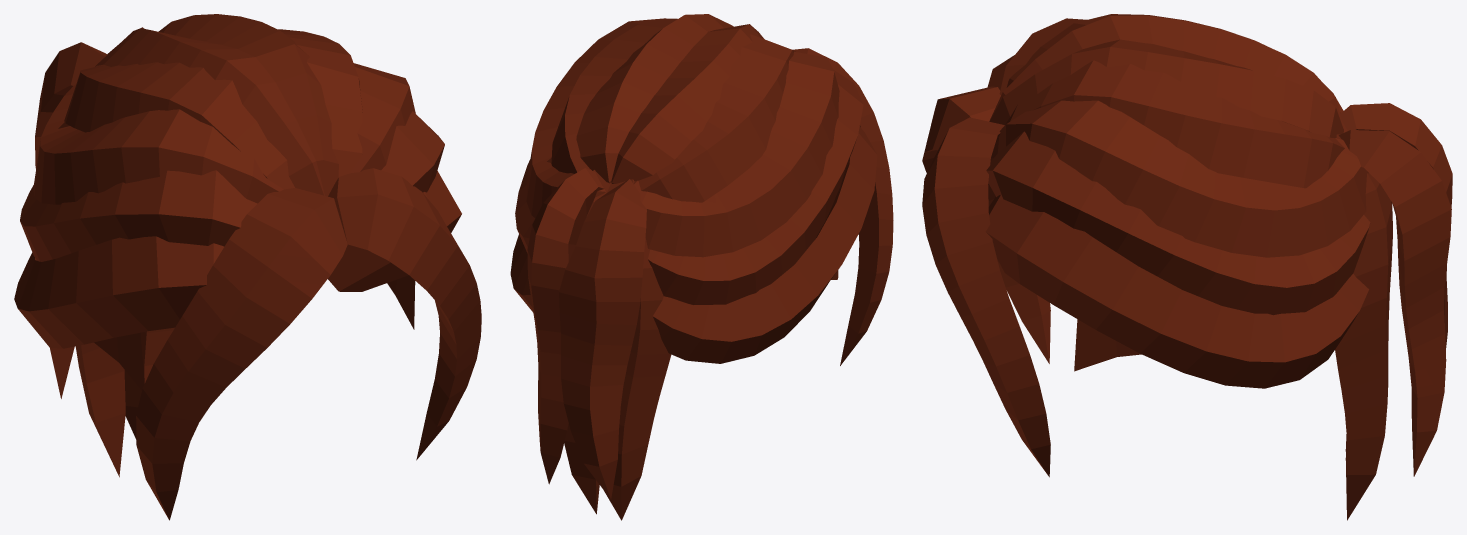
File: q_formal_red.glb
3 renders of one model, left to right at view 1: azimuth 30°, elevation 25°; view 2: azimuth 150°, elevation 25°; view 3: azimuth 270°, elevation 25°, orthographic. The views are drawn at different scales.
Visible parts, largest first — view 1: Formad_Head; view 2: Formad_Head; view 3: Formad_Head.
Part boxes in pixels (left/top/right/bottom): Formad_Head: left=14, top=14, right=481, bottom=520; Formad_Head: left=510, top=14, right=893, bottom=520; Formad_Head: left=922, top=14, right=1452, bottom=520.
Size of the model in its own units: 0.241 by 0.3188 by 0.3177.
